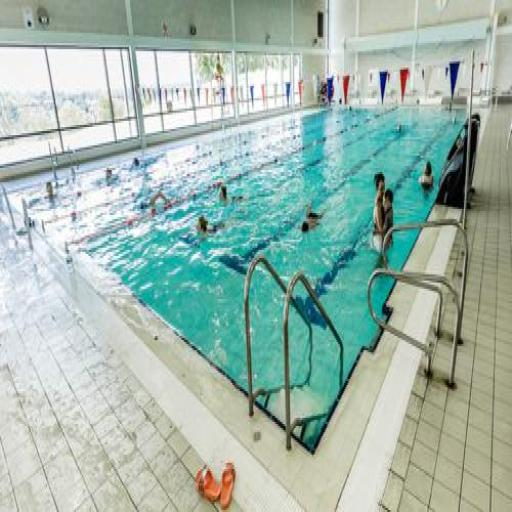swimming: (298, 200, 326, 238), (193, 211, 224, 244), (215, 180, 245, 211), (417, 158, 435, 194)
